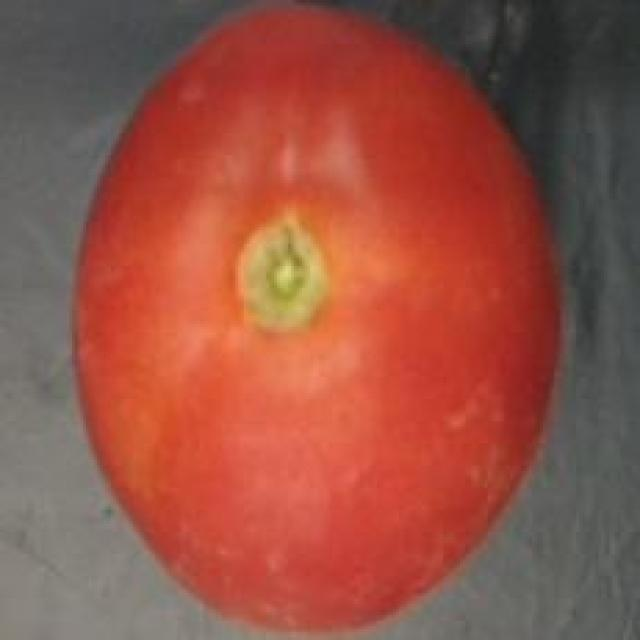overripe tomato: (64, 0, 574, 640)
